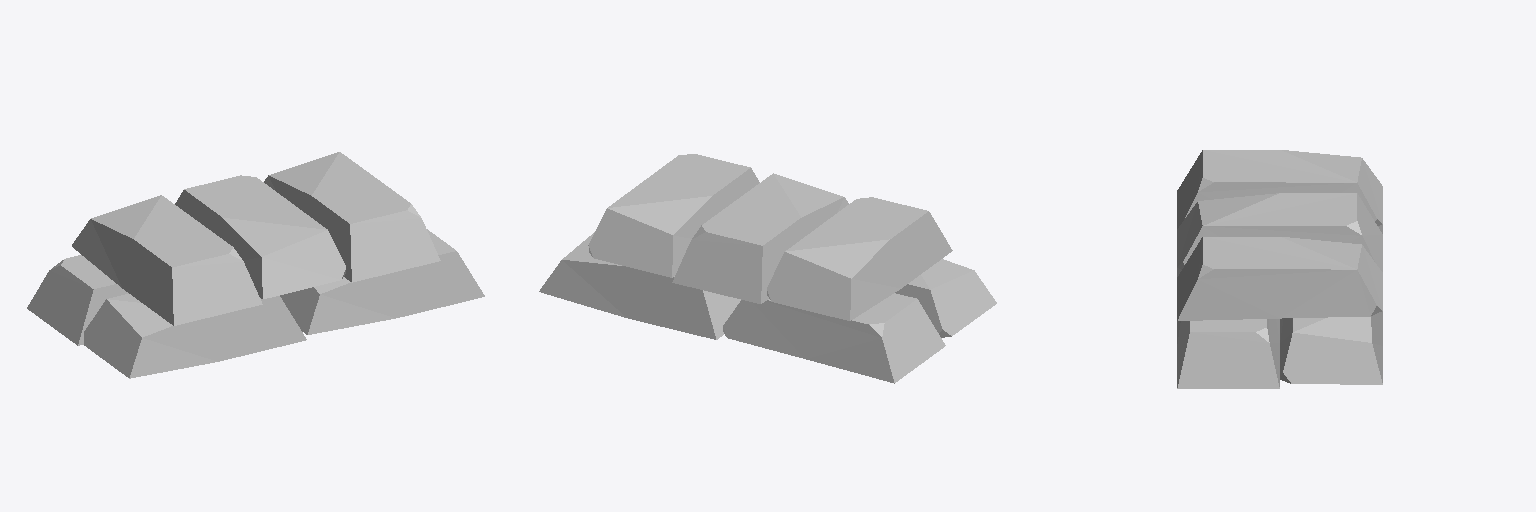
File: Gold-15.obj
3 views of the same model, side by side, from view 1: azimuth 30°, elevation 25°; view 2: azimuth 150°, elevation 25°; view 3: azimuth 270°, elevation 25° (orthographic).
Visible parts, largest first — view 1: Gold_15; view 2: Gold_15; view 3: Gold_15.
Boxes of the visible parts, x1,y1,x2,y2 form: Gold_15: [27, 152, 484, 378]; Gold_15: [539, 154, 996, 383]; Gold_15: [1177, 150, 1382, 388].
Size of the model in its own units: 0.3 by 0.075 by 0.15.